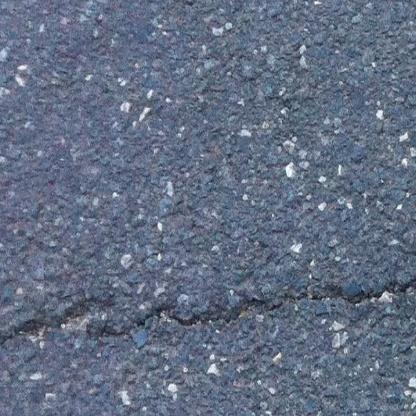Cracks: (0, 282, 416, 362)
